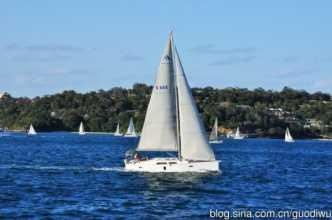fanchuan: (119, 28, 227, 174), (228, 124, 248, 141), (211, 120, 224, 145), (124, 116, 138, 139), (277, 128, 295, 145), (24, 120, 38, 135), (112, 121, 123, 137), (78, 120, 88, 135)
